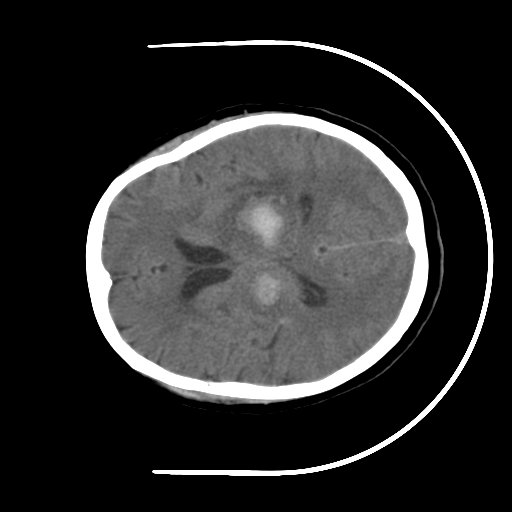a: (211, 163, 309, 326)
